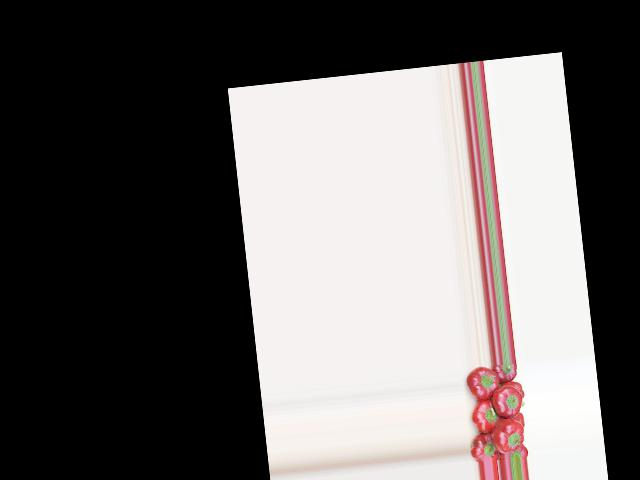bell_pepper: (511, 411, 526, 426)
